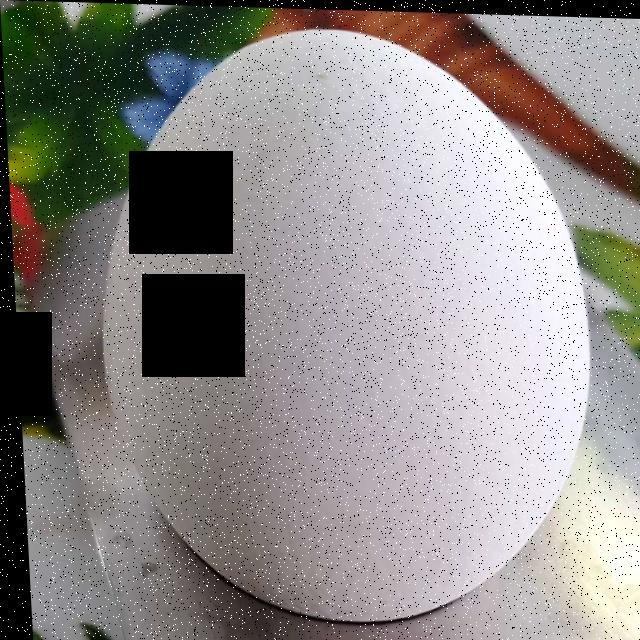egg: (110, 48, 561, 592)
